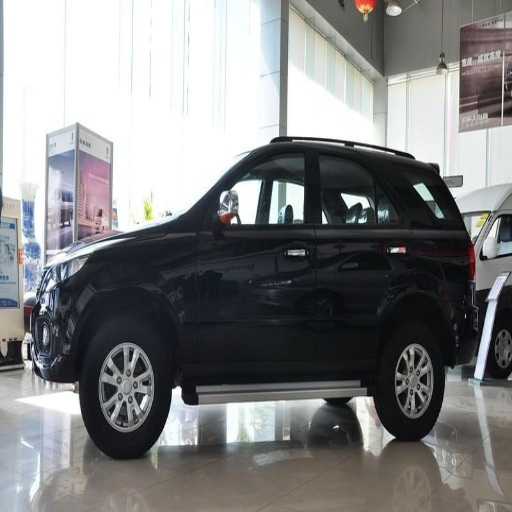back_glass: (396, 169, 442, 221)
back_left_door: (312, 144, 405, 375)
front_left_door: (197, 140, 315, 375)
trunk: (406, 236, 461, 328)
